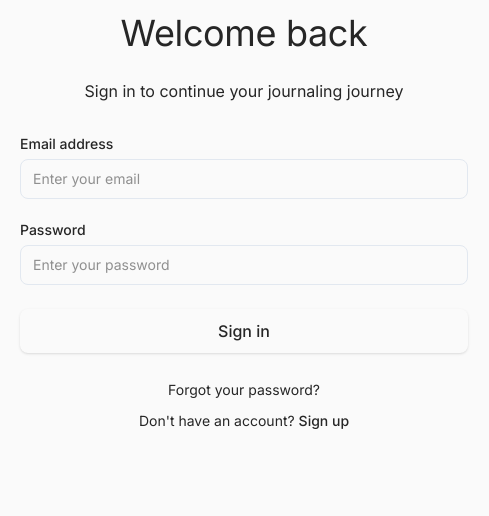
Test case: AuthForm › Error Handling › handles unexpected errors gracefully
In the field labelled "Email address": coordinates (244, 179) x1=20 y1=159 x2=468 y2=199, type "test@example.com"
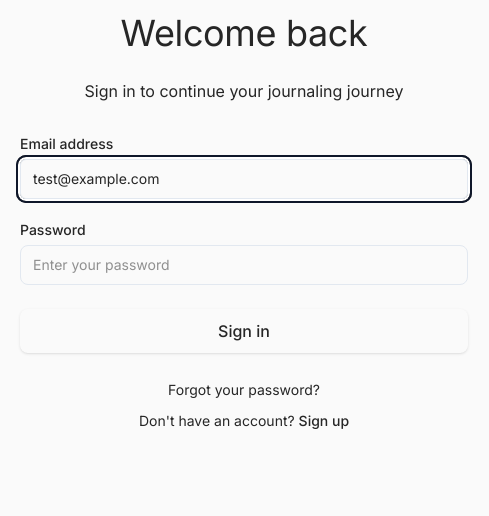
In the password field labelled "Password": coordinates (244, 265) x1=20 y1=245 x2=468 y2=285, type "password123"
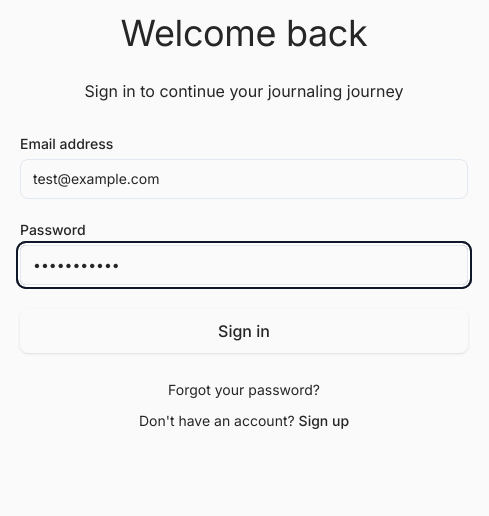
Click the button "Sign in": coordinates (244, 331) x1=20 y1=309 x2=468 y2=353
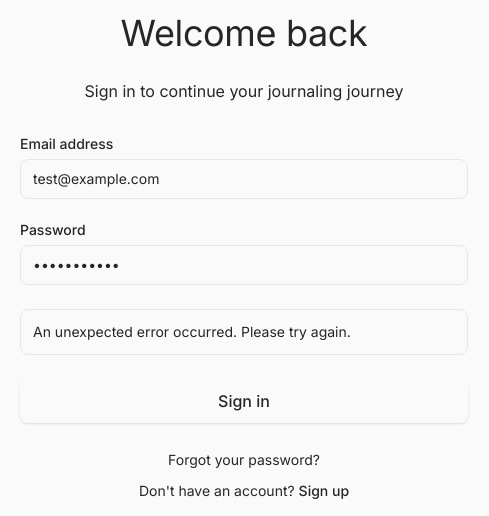
Result: the text "An unexpected error occurred. Please try again." is shown at x1=20 y1=309 x2=468 y2=355
